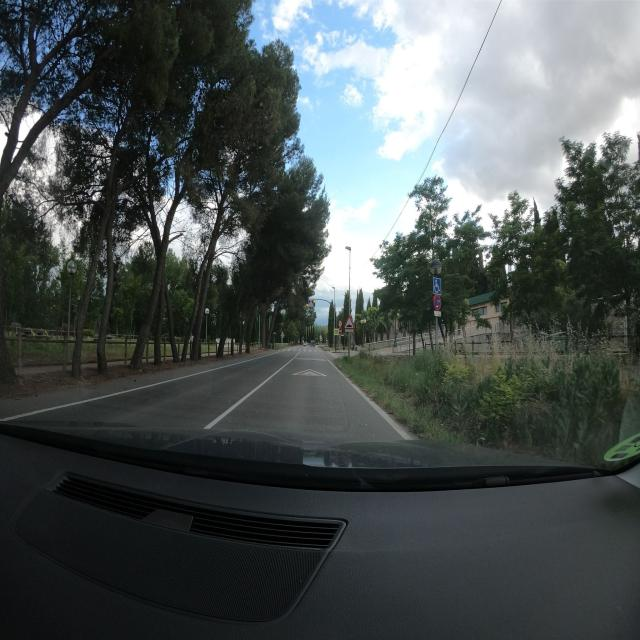forb_stopping: (433, 294, 440, 311)
